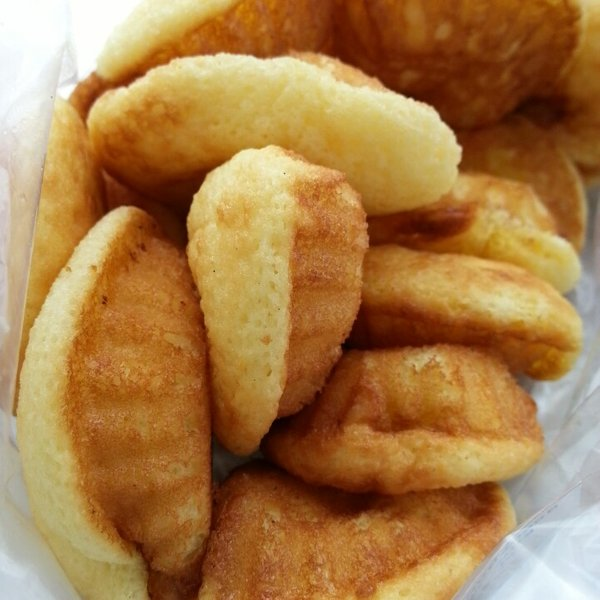kanomkai: (10, 200, 226, 600), (169, 128, 369, 483)
